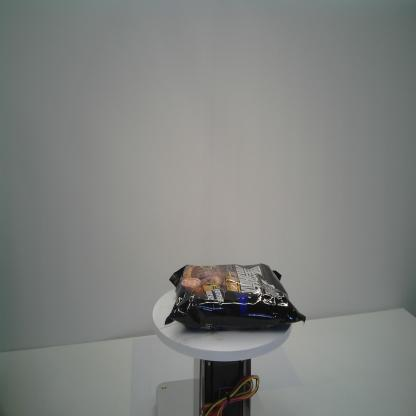Instant Noodles: (163, 262, 307, 331)
